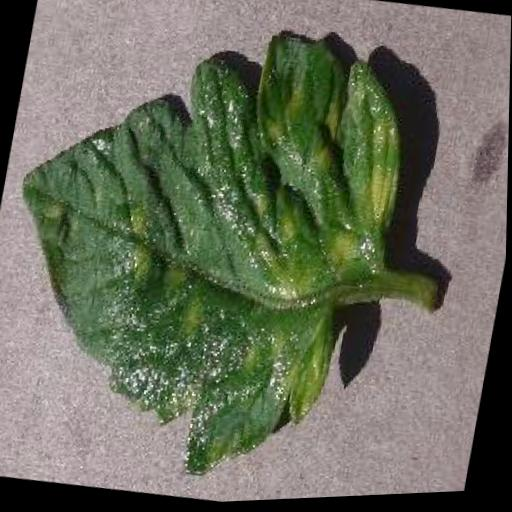Leaf Mold: (0, 0, 427, 511)
